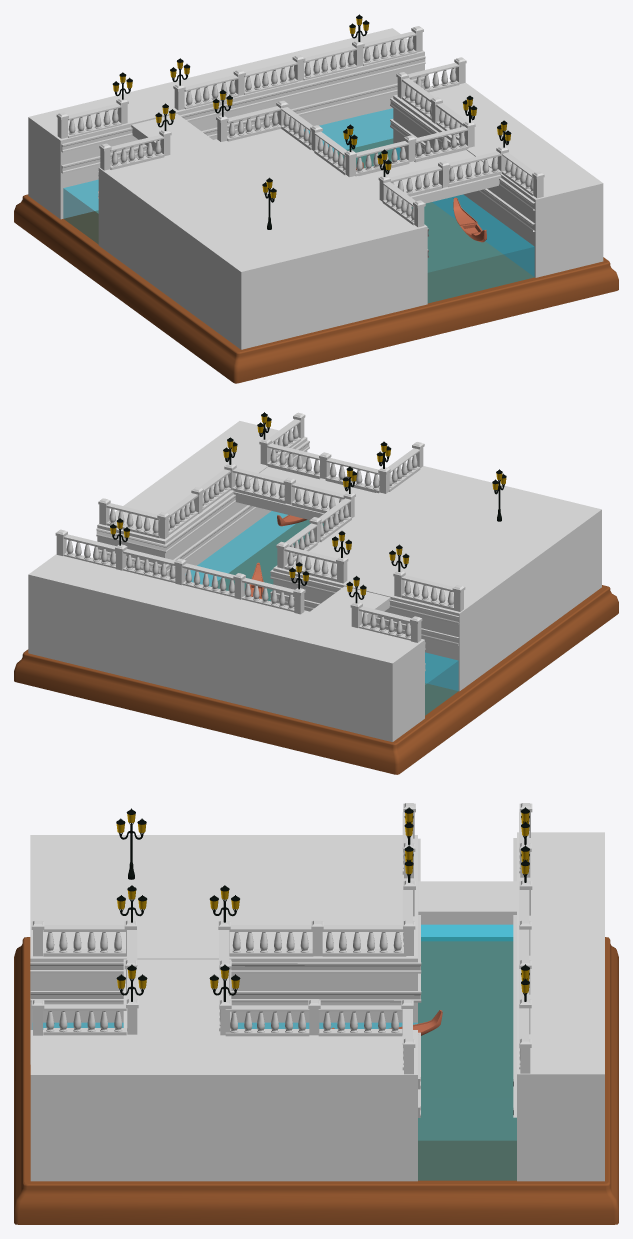
File: level4.FBX
3 views of the same model, one above another, from view 1: azimuth 30°, elevation 25°; view 2: azimuth 150°, elevation 25°; view 3: azimuth 270°, elevation 25° (orthographic). The views are drawn at different scales.
Visible parts, largest first — view 1: Container001, Box074, Box073, Box075, Box076, Box077, Plane012; view 2: Container001, Box073, Box074, Box075, Box076, Box077; view 3: Container001, Box075, Box074, Box073, Box076, Box077, Cylinder088.
Boxes of the visible parts, <box> form: Container001: <box>14,26,618,383</box>; Box074: <box>98,129,427,349</box>; Box073: <box>28,28,424,219</box>; Box075: <box>393,82,603,277</box>; Box076: <box>359,150,501,206</box>; Box077: <box>131,114,212,151</box>; Plane012: <box>453,197,486,242</box>; Container001: <box>14,412,618,774</box>; Box073: <box>28,554,424,741</box>; Box074: <box>273,466,601,691</box>; Box075: <box>97,421,307,586</box>; Box076: <box>233,467,375,523</box>; Box077: <box>310,586,390,622</box>; Container001: <box>14,803,618,1224</box>; Box075: <box>30,1030,417,1181</box>; Box074: <box>30,835,417,1064</box>; Box073: <box>517,832,604,1181</box>; Box076: <box>123,959,231,1029</box>; Box077: <box>418,881,516,924</box>; Cylinder088: <box>116,808,146,879</box>.
Size of the model in its own units: 336 by 130 by 336.
